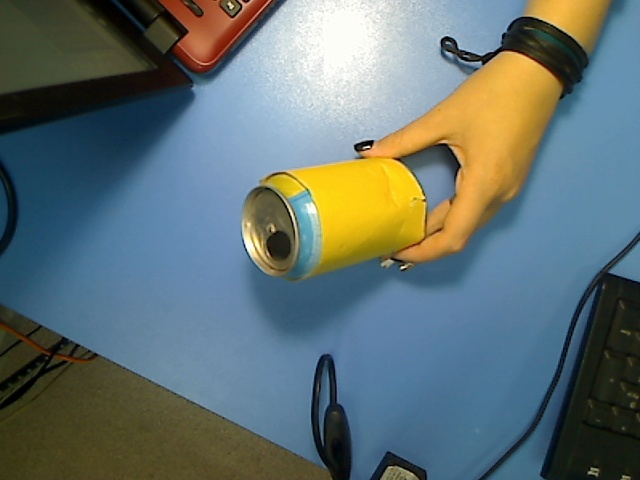can: (240, 156, 430, 284)
